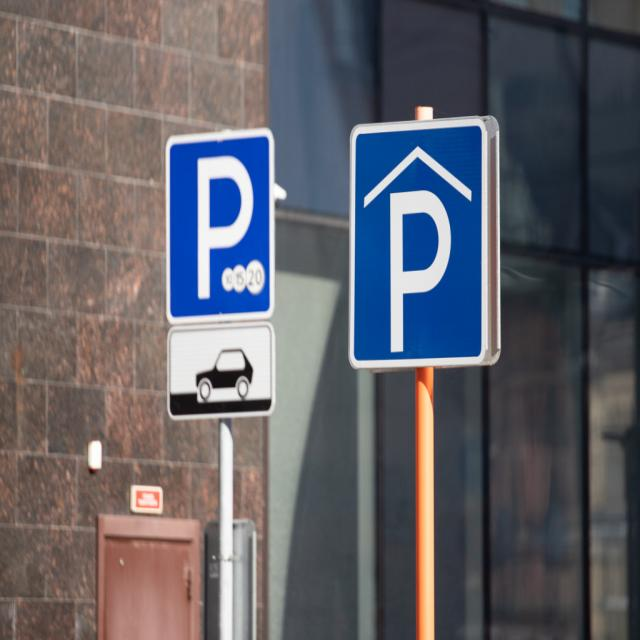parking: (347, 114, 498, 373), (162, 132, 277, 320)
